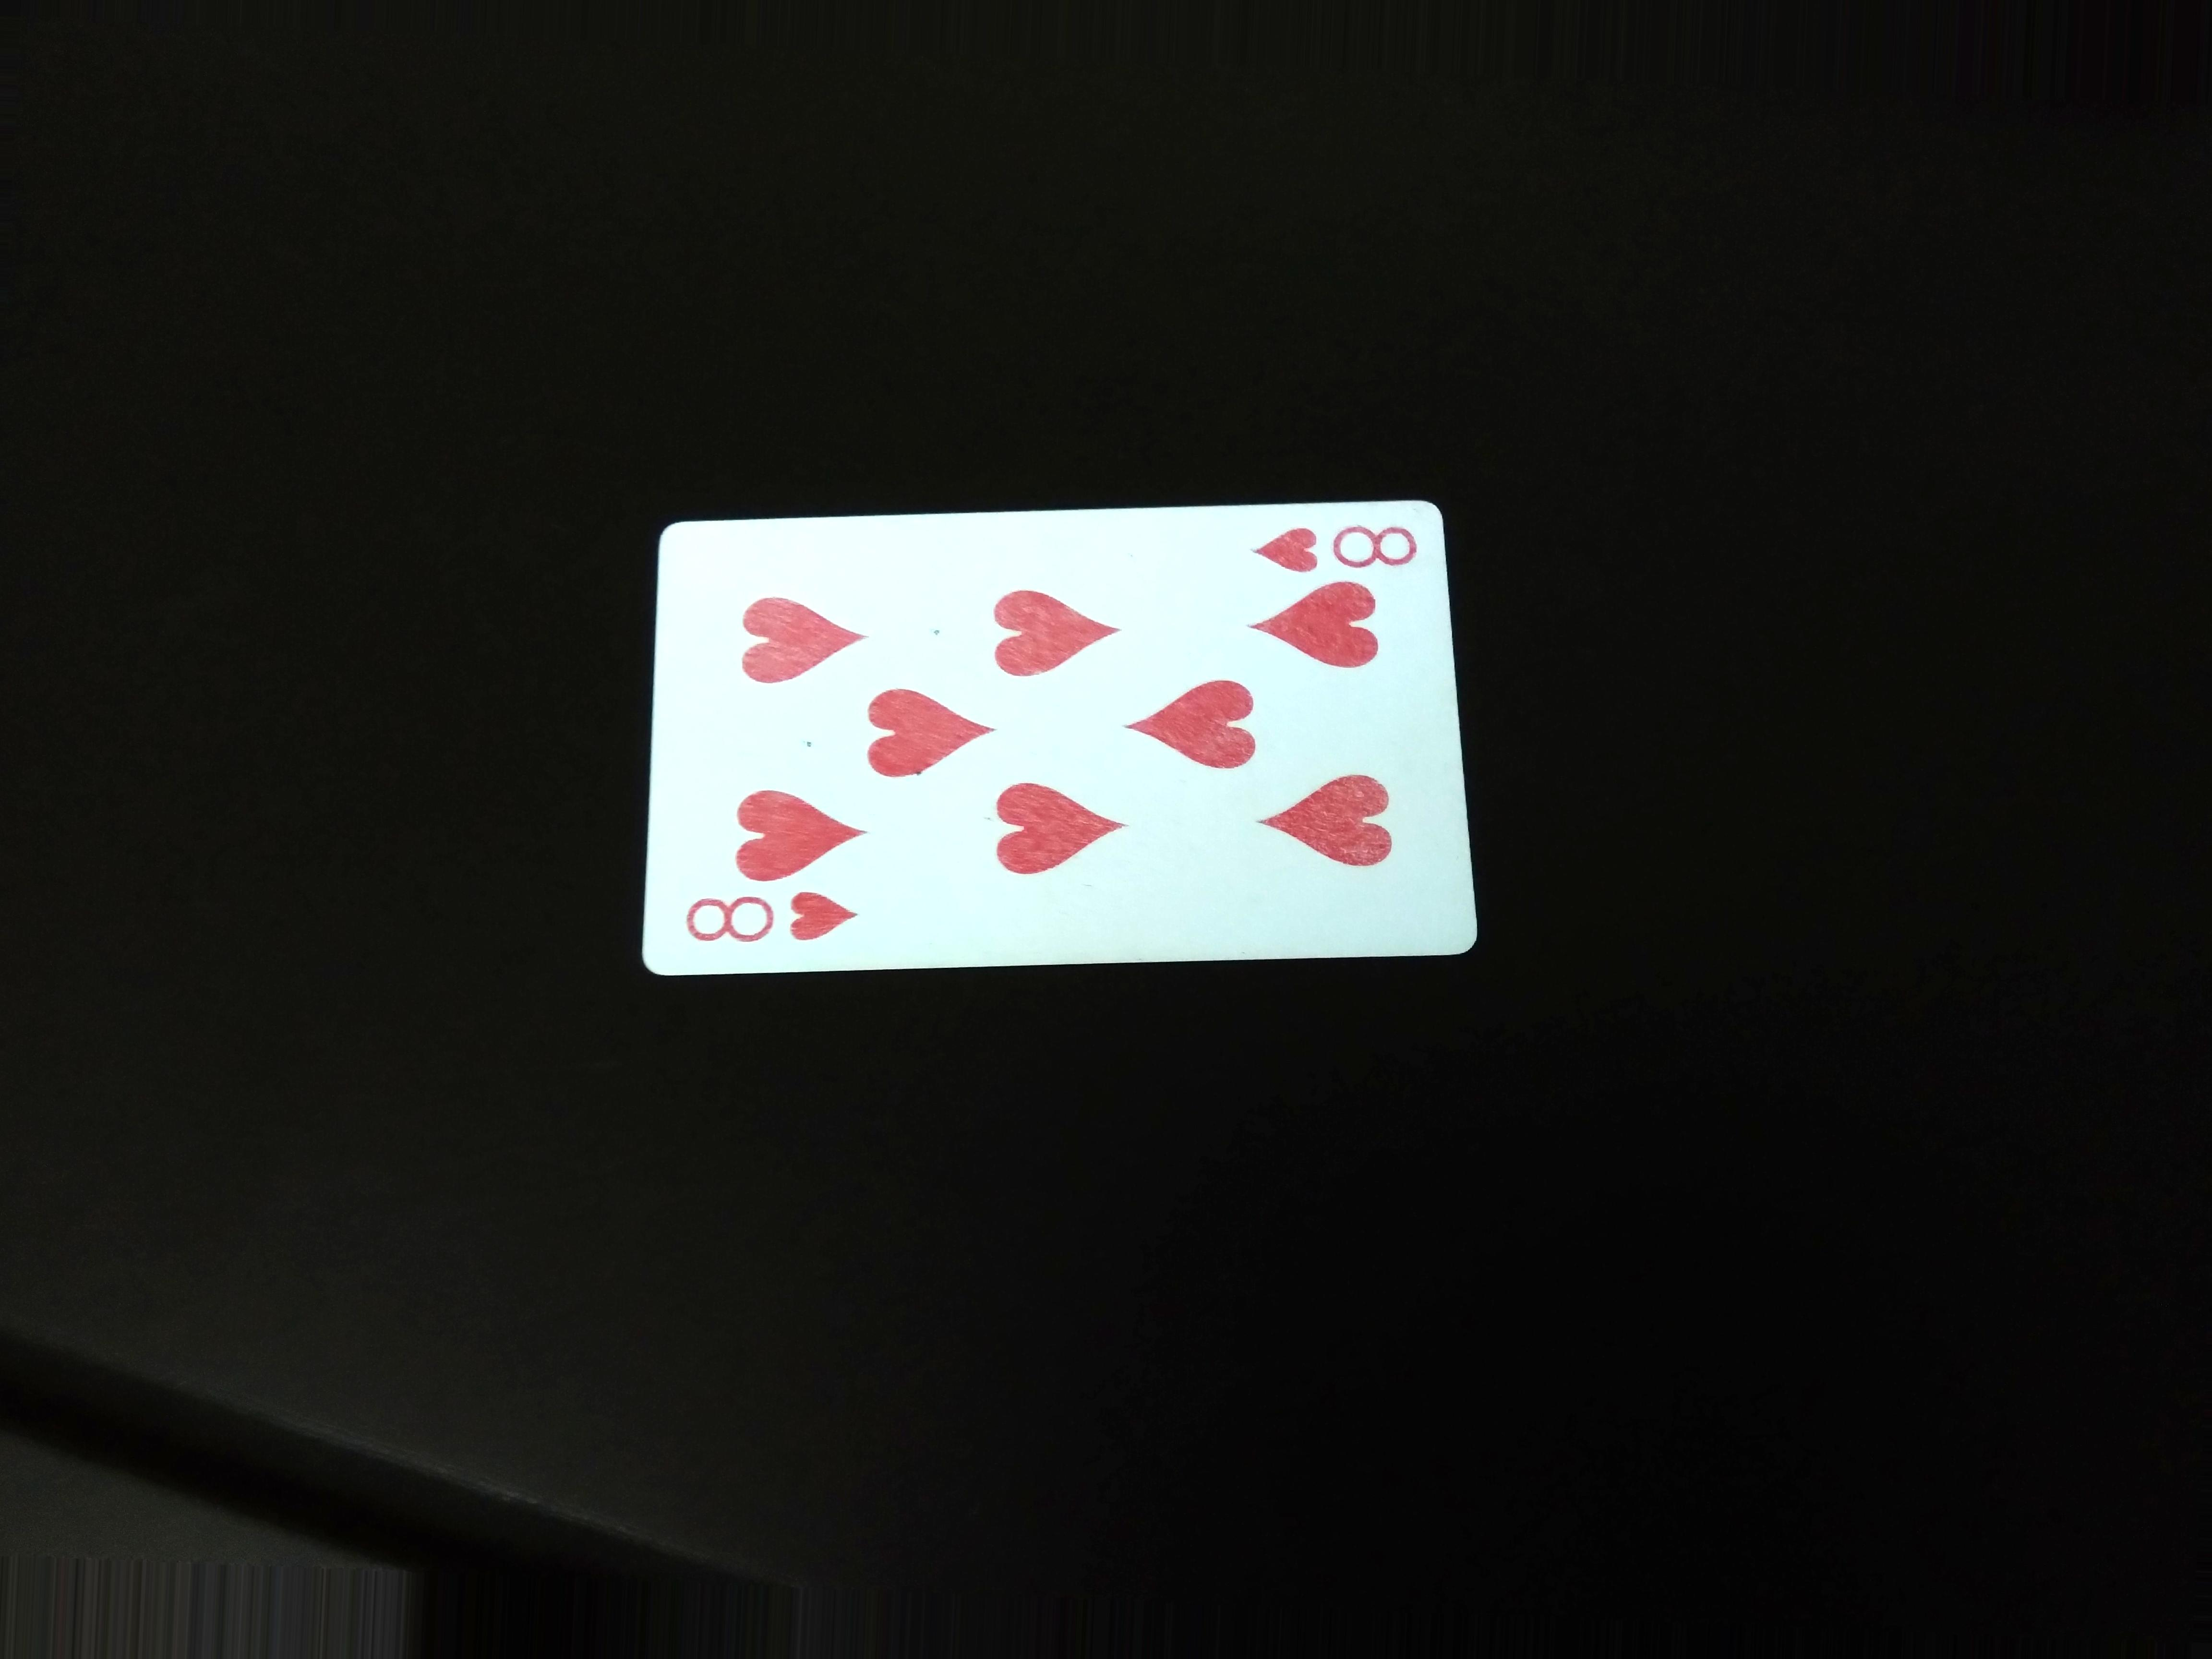8H: (1247, 512, 1425, 584)
